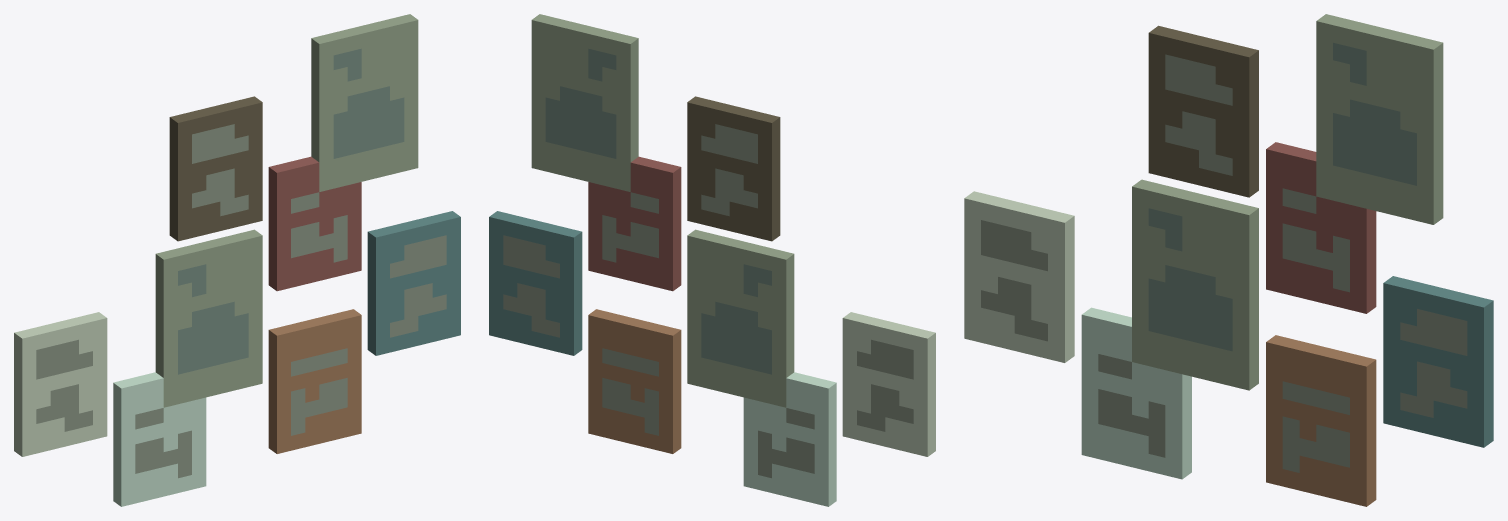
Rendered from Bunker - Free Sample-84-Documents_colored-2.obj.
3 views of the same model, side by side, from view 1: azimuth 30°, elevation 25°; view 2: azimuth 150°, elevation 25°; view 3: azimuth 330°, elevation 25° (orthographic). The views are drawn at different scales.
Visible parts, largest first — view 1: Documents_colored-2; view 2: Documents_colored-2; view 3: Documents_colored-2.
Boxes of the visible parts, bbox=[...] form: Documents_colored-2: bbox=[14, 14, 460, 506]; Documents_colored-2: bbox=[489, 14, 935, 506]; Documents_colored-2: bbox=[964, 14, 1493, 506].
Size of the model in its own units: 0.62 by 0.56 by 0.02.
1 material, 1 textured.
